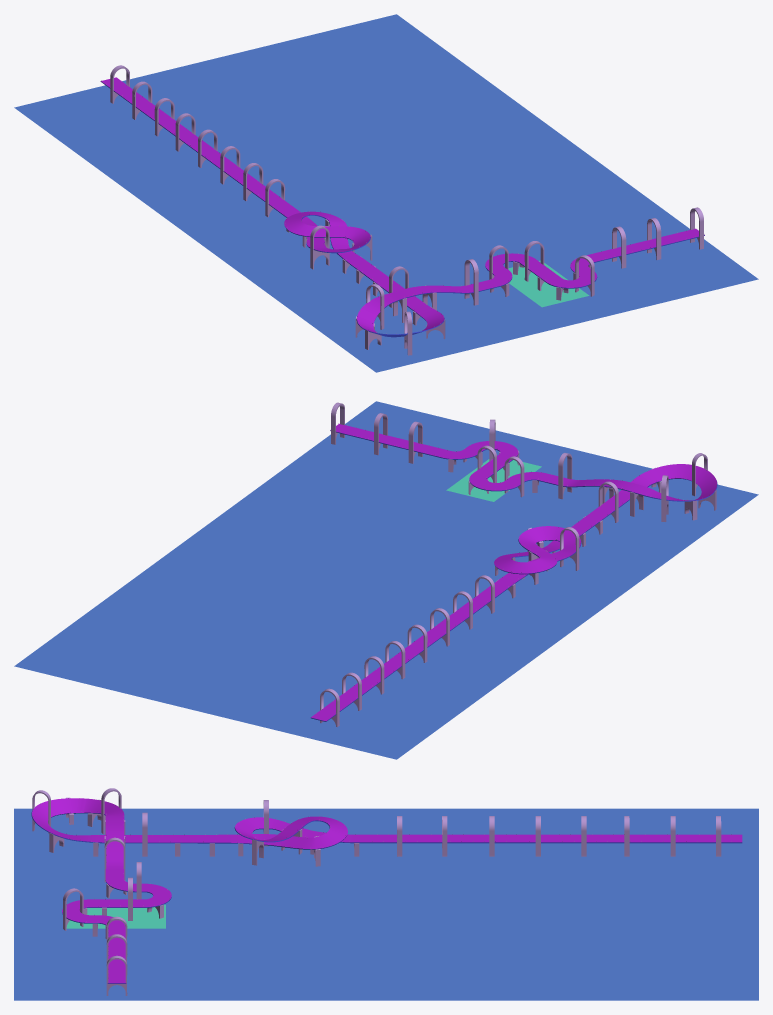
3 renders of one model, top to bottom at view 1: azimuth 30°, elevation 25°; view 2: azimuth 150°, elevation 25°; view 3: azimuth 270°, elevation 25°, orthographic. The views are drawn at different scales.
Parts seen in each view (by area): view 1: water, road, pilars, clouds; view 2: water, road, pilars, clouds; view 3: water, road, pilars, clouds.
Boxes of the visible parts, x1,y1,x2,y2 form: water: [14, 14, 758, 372]; road: [100, 77, 704, 337]; pilars: [101, 65, 704, 355]; clouds: [508, 260, 589, 307]; water: [14, 401, 758, 759]; road: [310, 423, 717, 721]; pilars: [316, 402, 716, 727]; clouds: [446, 459, 541, 501]; water: [14, 808, 758, 1000]; road: [31, 798, 742, 983]; pilars: [32, 788, 731, 995]; clouds: [66, 904, 165, 928].
Size of the model in its own units: 274 by 28.51 by 450.
